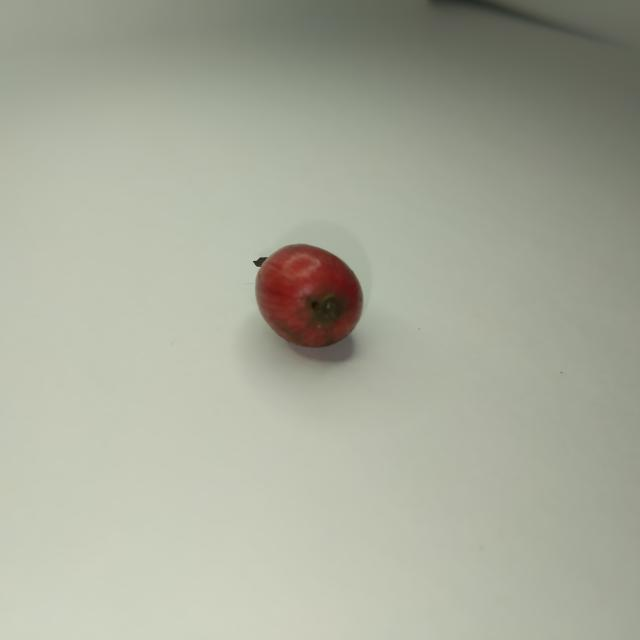Infectado: (254, 243, 363, 350)
